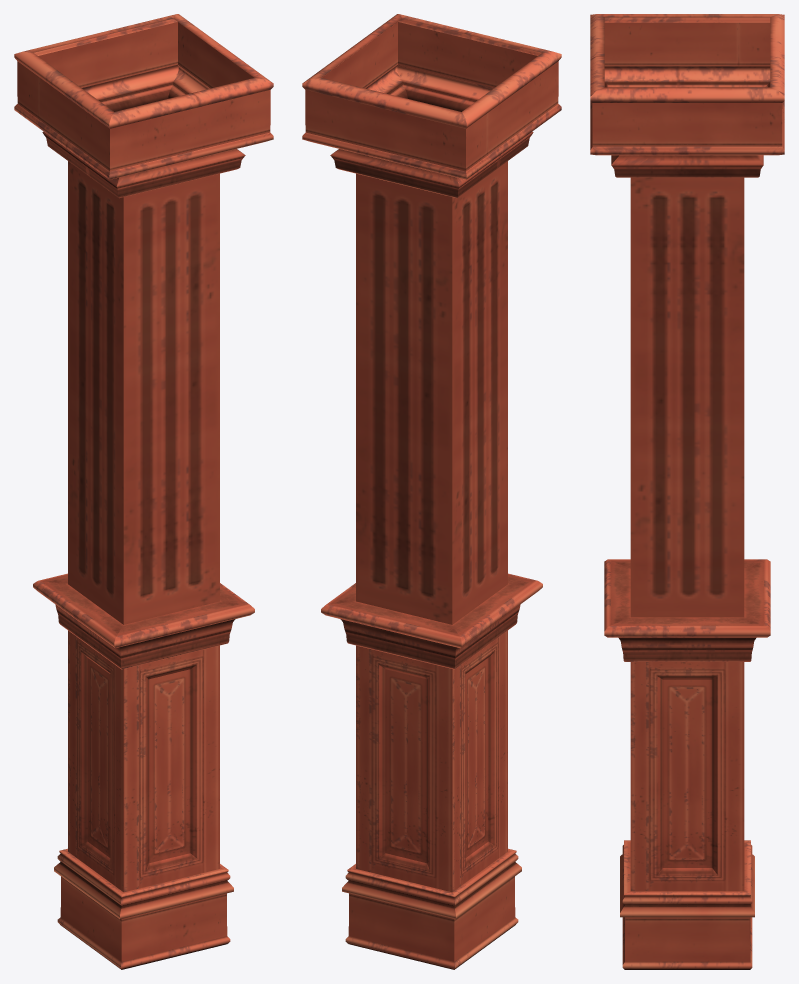
File: MSH_Column_02.FBX
3 renders of one model, left to right at view 1: azimuth 30°, elevation 25°; view 2: azimuth 150°, elevation 25°; view 3: azimuth 270°, elevation 25°, orthographic. The views are drawn at different scales.
Visible parts, largest first — view 1: MSH_Column_02; view 2: MSH_Column_02; view 3: MSH_Column_02.
Boxes of the visible parts, x1,y1,x2,y2 form: MSH_Column_02: (14, 14, 273, 969); MSH_Column_02: (302, 14, 561, 969); MSH_Column_02: (590, 14, 784, 969).
Size of what is drawn, in the model's own units: 67.27 by 67.27 by 340.
